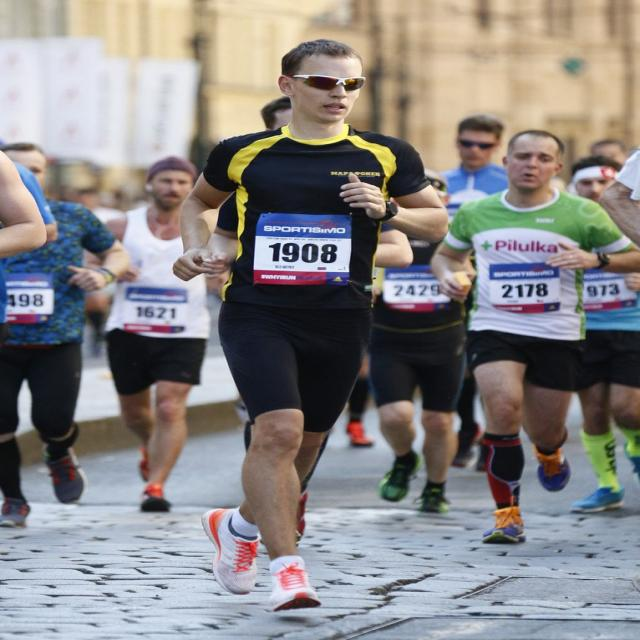Bib: (264, 241, 350, 269), (494, 278, 563, 302), (580, 277, 634, 302), (128, 303, 184, 321), (7, 292, 55, 312), (390, 285, 446, 299)
